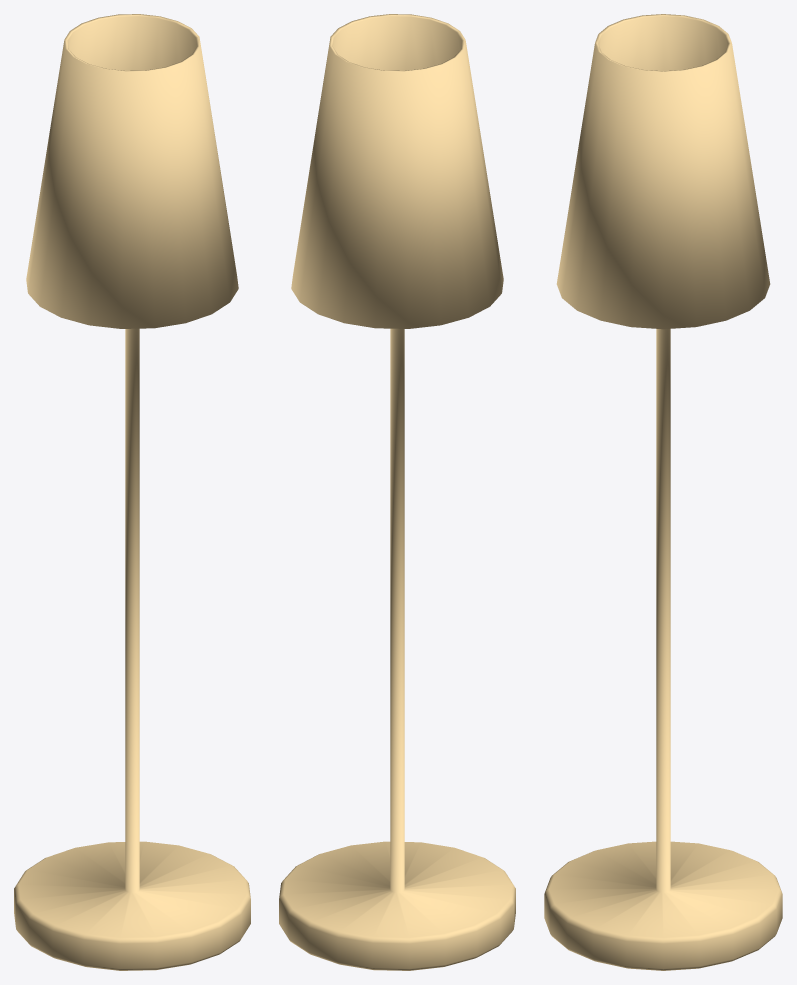
Rendered from Sala_Lampara_03.fbx.
3 views of the same model, side by side, from view 1: azimuth 30°, elevation 25°; view 2: azimuth 150°, elevation 25°; view 3: azimuth 270°, elevation 25° (orthographic).
Visible parts, largest first — view 1: Cylinder001, lamp; view 2: Cylinder001, lamp; view 3: Cylinder001, lamp.
Boxes of the visible parts, bbox=[...] form: Cylinder001: bbox=[26, 14, 238, 328]; lamp: bbox=[14, 328, 250, 970]; Cylinder001: bbox=[291, 14, 503, 328]; lamp: bbox=[279, 328, 515, 970]; Cylinder001: bbox=[556, 14, 770, 329]; lamp: bbox=[544, 329, 782, 970].
Size of the model in its own units: 12.15 by 49.55 by 12.15.
1 material, 1 textured.
